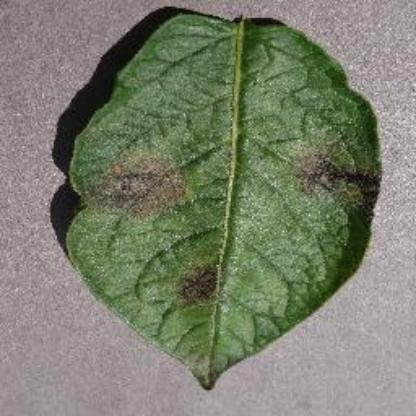Late-Blight: (62, 11, 384, 392)
